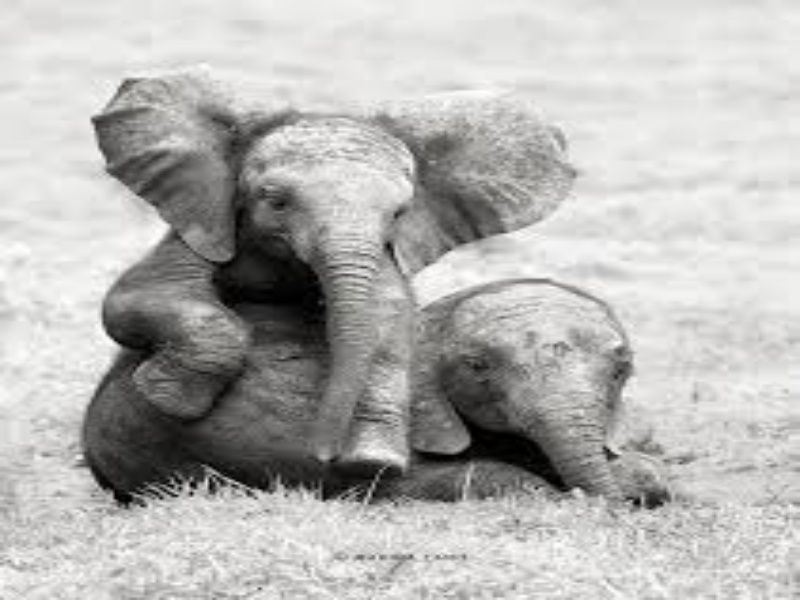elephant: (74, 49, 704, 516)
